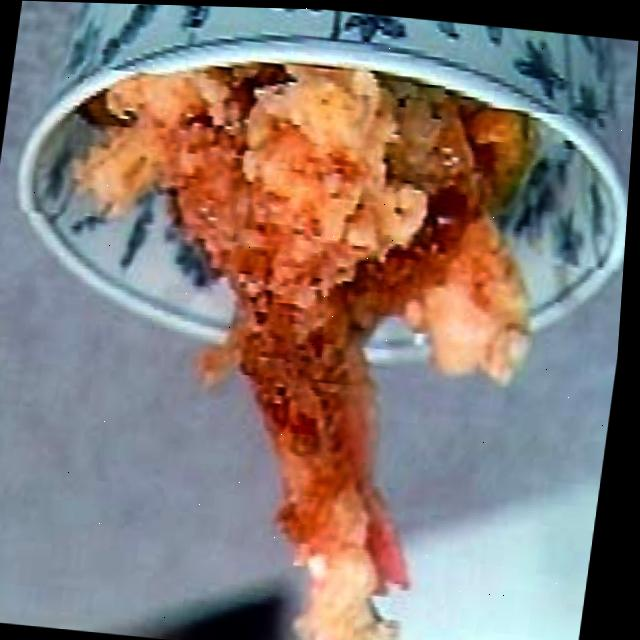熟制海鲜: (0, 0, 640, 545)
